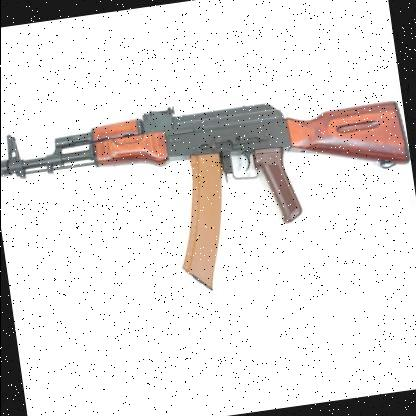rifle: (0, 49, 416, 308)
